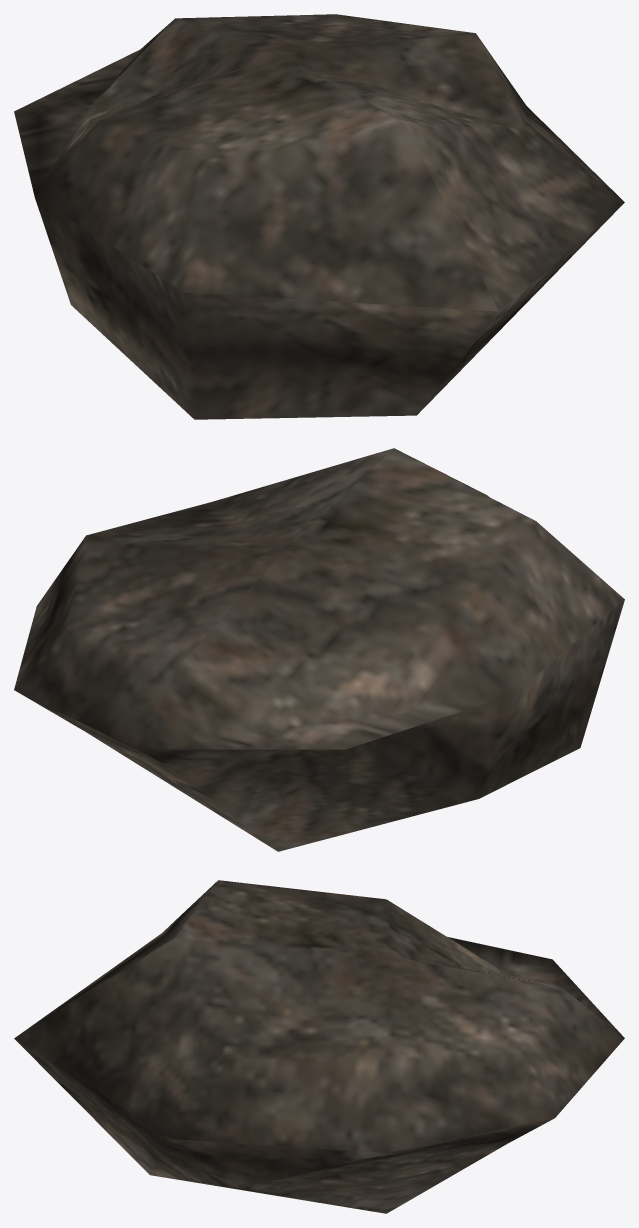
Rendered from Rock_05.glb.
3 renders of one model, top to bottom at view 1: azimuth 30°, elevation 25°; view 2: azimuth 150°, elevation 25°; view 3: azimuth 270°, elevation 25°, orthographic. The views are drawn at different scales.
Parts seen in each view (by area): view 1: Rock_05.001; view 2: Rock_05.001; view 3: Rock_05.001.
Boxes of the visible parts, x1,y1,x2,y2 form: Rock_05.001: (14,14,624,419); Rock_05.001: (14,448,624,851); Rock_05.001: (14,880,624,1213).
Size of the model in its own units: 1.34 by 0.8483 by 1.7.
1 material, 1 textured.
